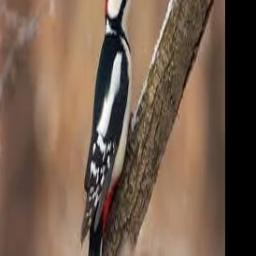Woodpecker: (81, 0, 141, 256)
